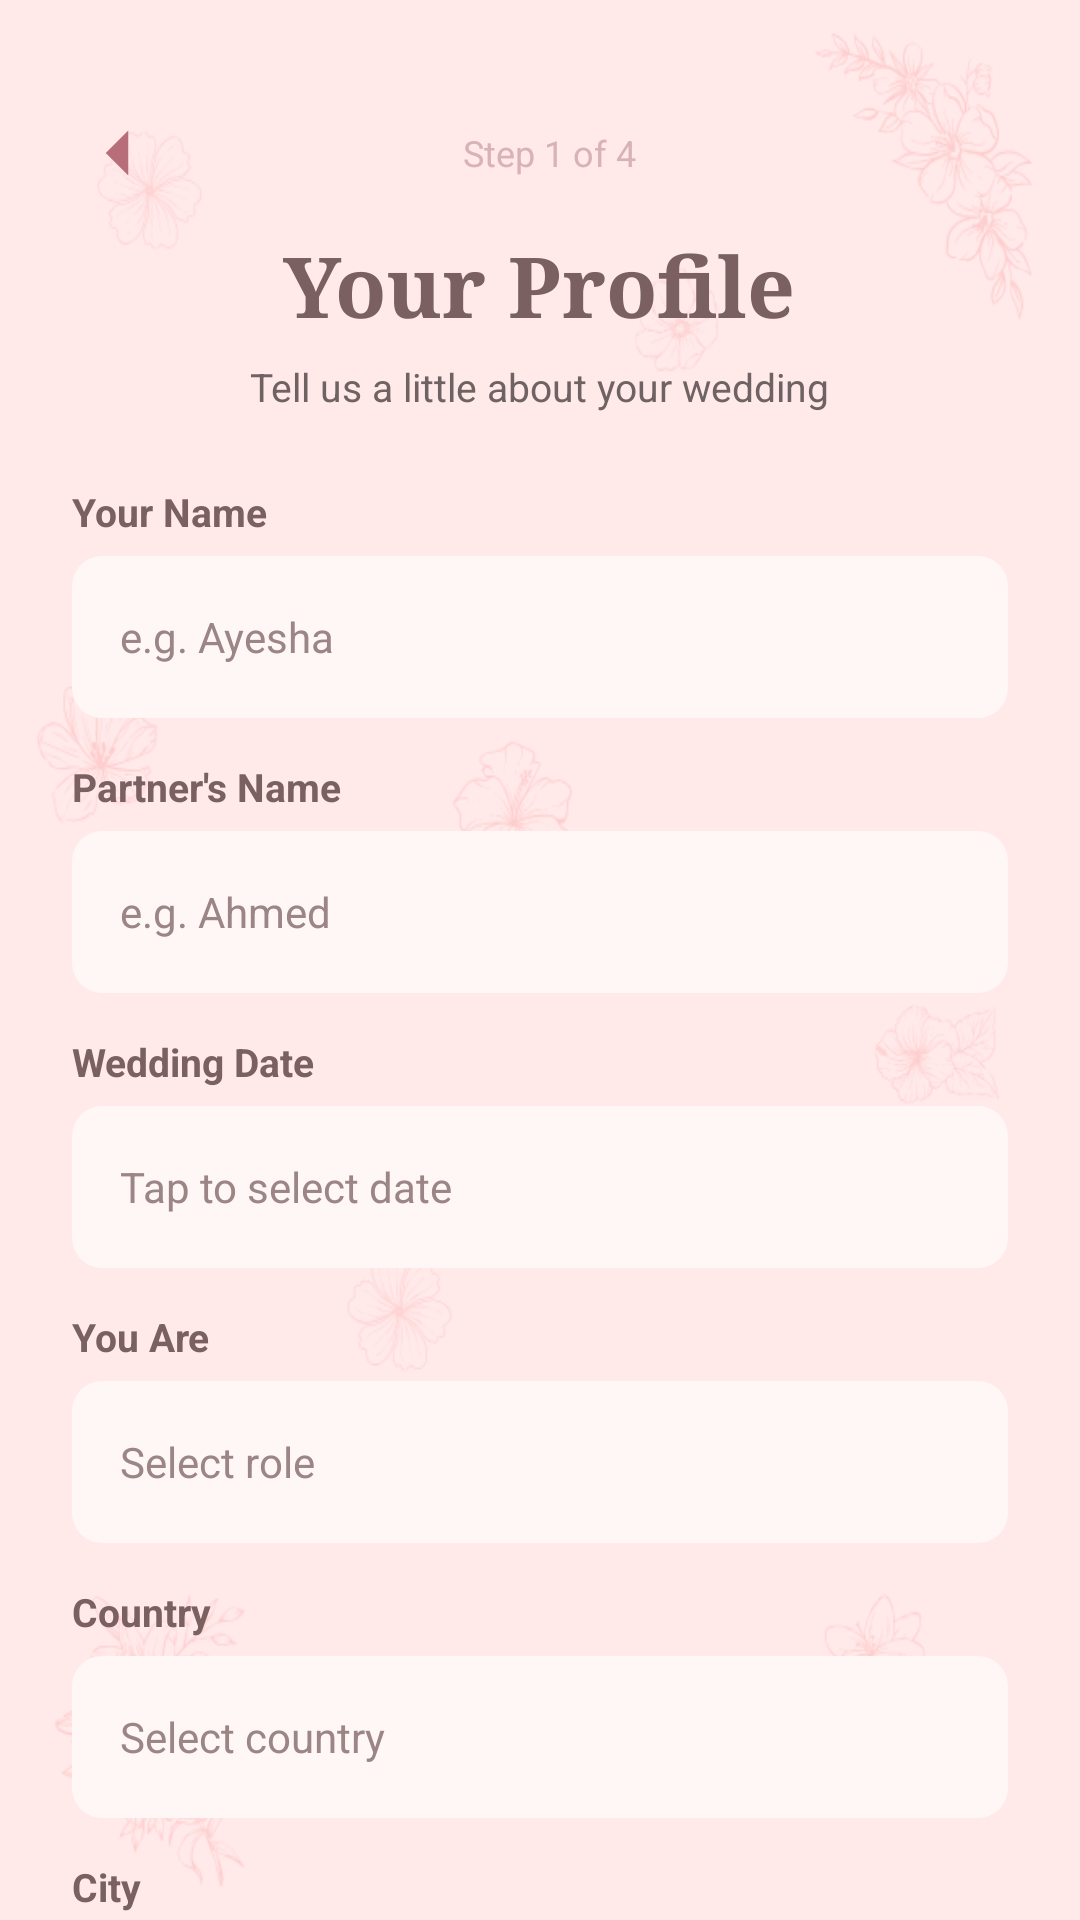

Where to tap for icons on this 1080×1920 app screen, as (x,y):
Back: (117,153)
